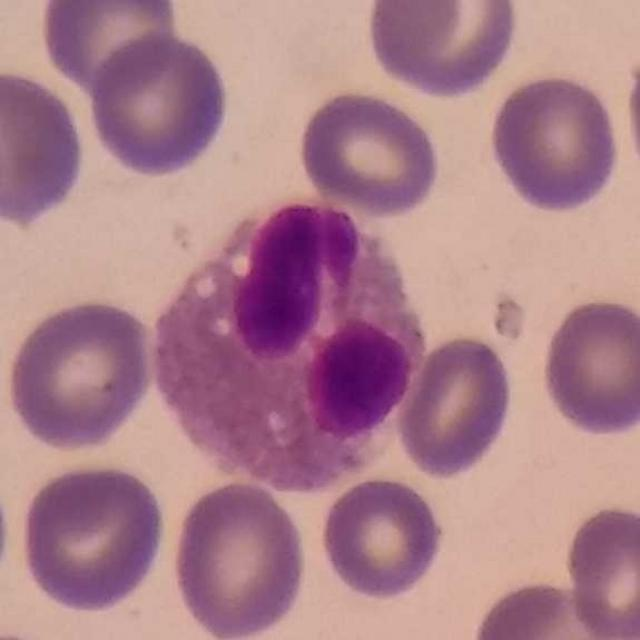Eosinophil: (141, 202, 430, 491)
RBC: (2, 294, 157, 454), (167, 476, 312, 640), (17, 460, 170, 614), (83, 28, 234, 179), (484, 69, 624, 216), (294, 86, 443, 218), (394, 332, 518, 482), (317, 473, 449, 602), (362, 0, 524, 100), (536, 294, 640, 441), (298, 316, 418, 443), (0, 64, 90, 230), (36, 0, 182, 95), (560, 502, 640, 640), (467, 576, 625, 640), (621, 36, 640, 198)
